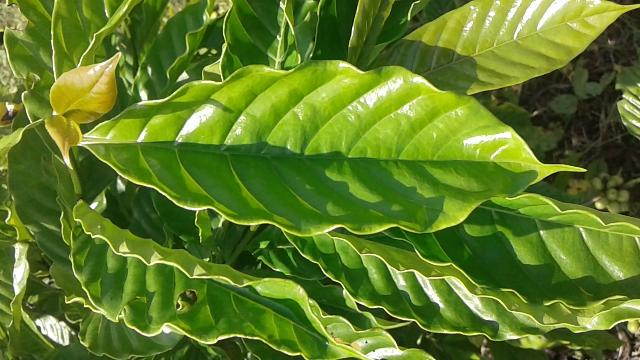healthy: (82, 57, 597, 238)
